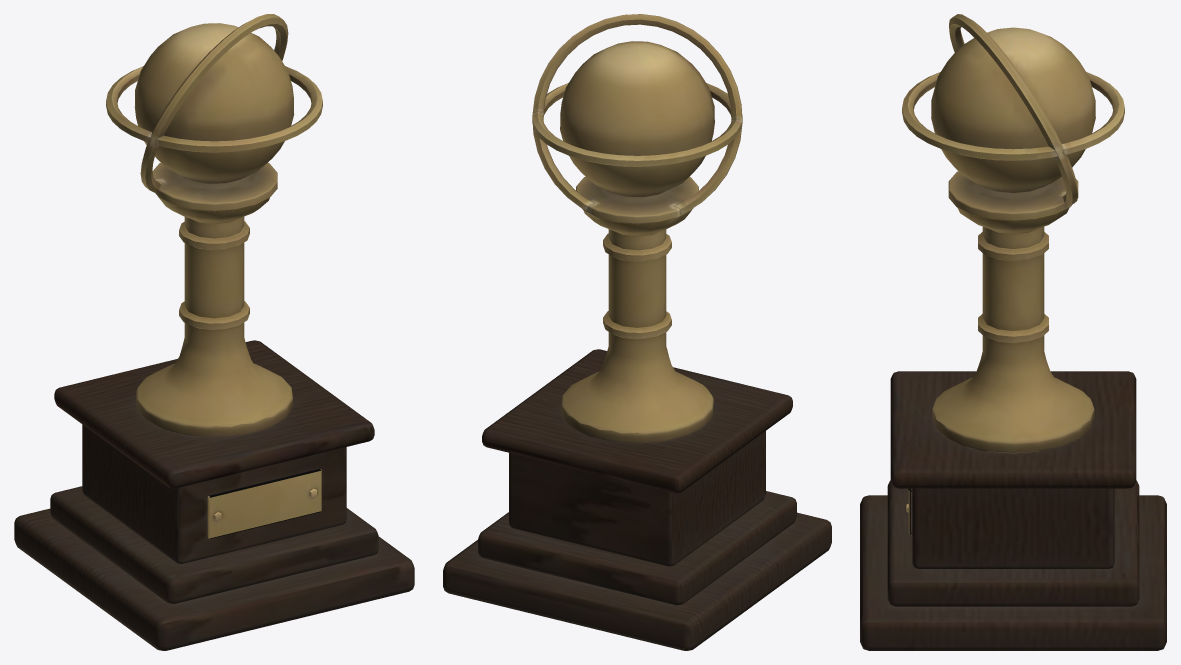
The model's file is trophy-plinth-small.glb.
The picture shows the model from 3 angles, left to right: view 1: azimuth 30°, elevation 25°; view 2: azimuth 150°, elevation 25°; view 3: azimuth 270°, elevation 25°; orthographic projection. The views are drawn at different scales.
Visible parts, largest first — view 1: trophy; view 2: trophy; view 3: trophy.
Boxes of the visible parts, x1,y1,x2,y2 form: trophy: (14, 14, 414, 650); trophy: (443, 14, 831, 650); trophy: (860, 14, 1166, 650).
Size of the model in its own units: 0.1 by 0.2062 by 0.1.
Materials: 1 (1 with a texture image).
